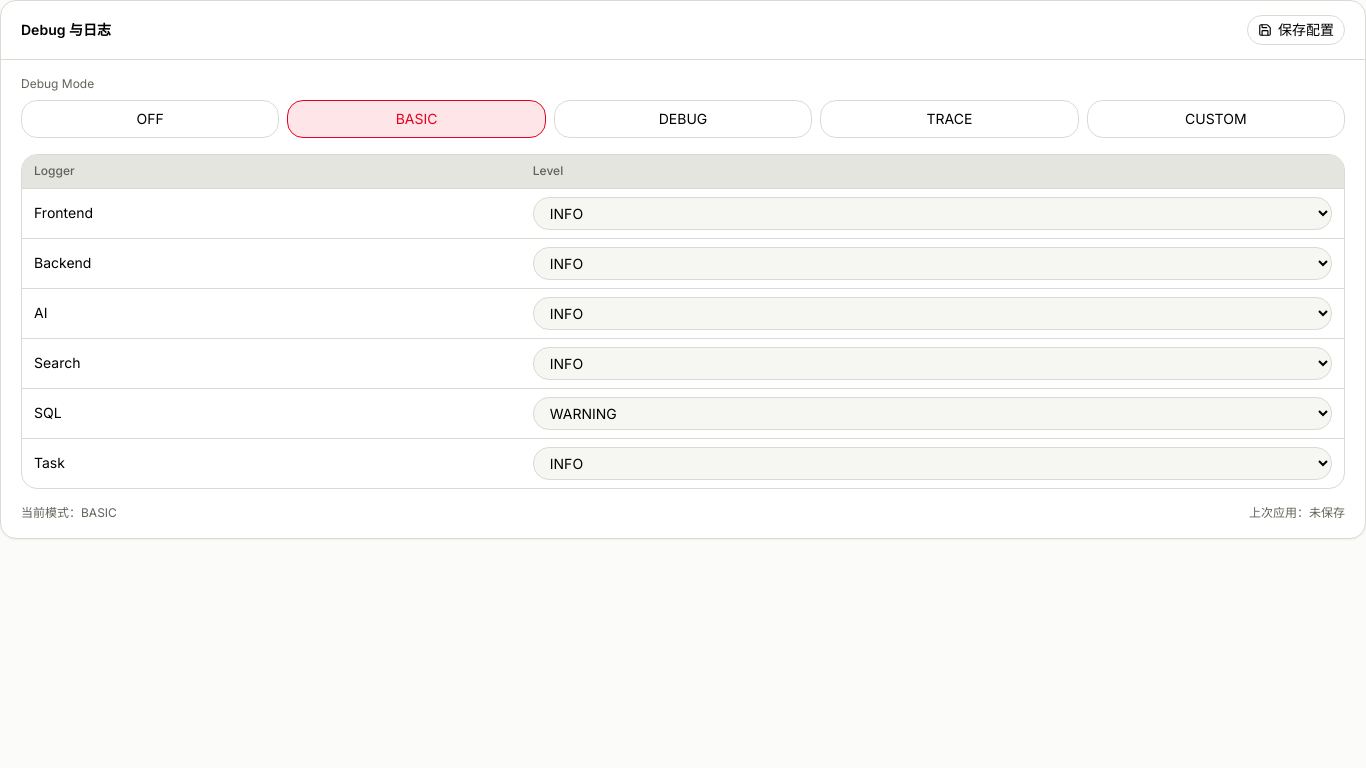
Scenario: DebugLogSettingsCard › shows backend error details when save fails
This screenshot has width=1366, height=768.
Expected: the text "当前模式：BASIC" is shown, left=21, top=505, right=117, bottom=522
Click the button "保存配置": (1296,30) left=1247, top=15, right=1345, bottom=45
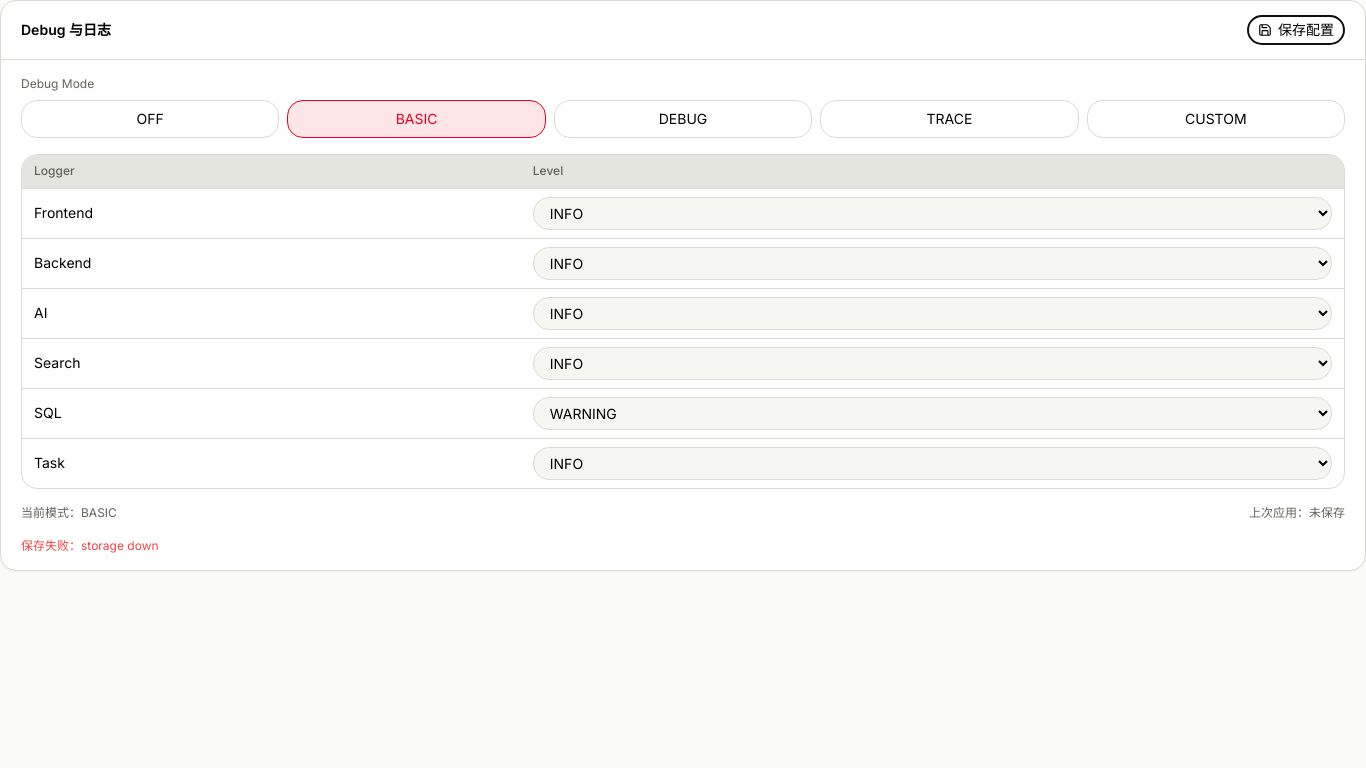
Expected: the text "保存失败：storage down" is shown, left=21, top=538, right=159, bottom=553
